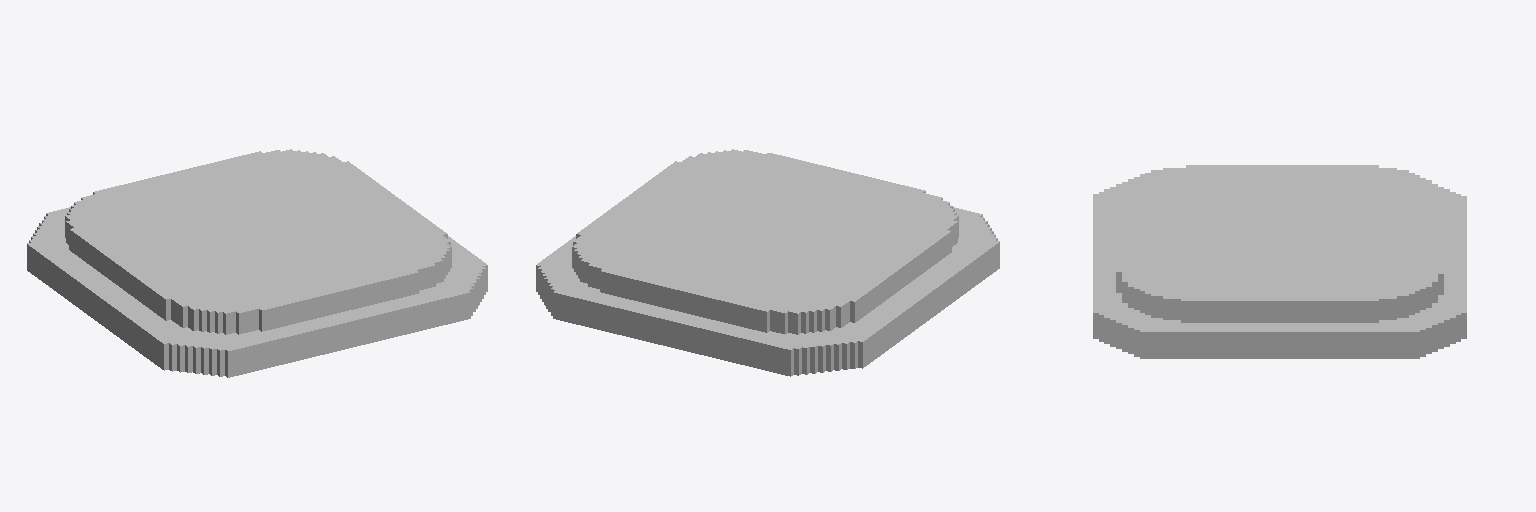
The model's file is button.obj.
3 views of the same model, side by side, from view 1: azimuth 30°, elevation 25°; view 2: azimuth 150°, elevation 25°; view 3: azimuth 270°, elevation 25° (orthographic).
Parts seen in each view (by area): view 1: object 1; view 2: object 1; view 3: object 1.
Part boxes in pixels (x1,y1,x2,y2): object 1: (27, 149, 487, 377); object 1: (536, 149, 999, 376); object 1: (1093, 165, 1466, 358).
Size of the model in its own units: 6.4 by 0.9 by 6.4.